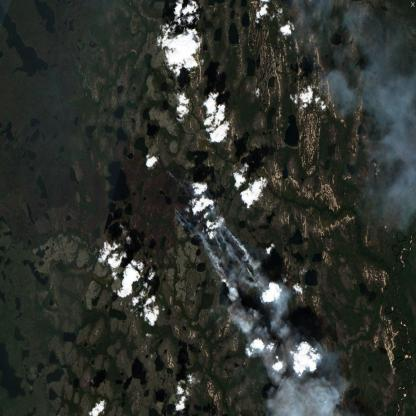fire: (204, 207, 250, 283), (169, 201, 194, 240), (165, 164, 195, 190)
